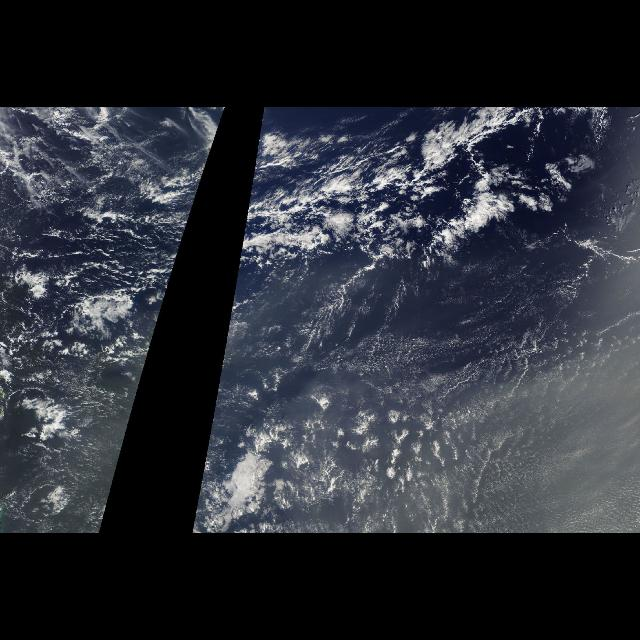Fish: (236, 108, 570, 276), (186, 108, 227, 228)
Sugar: (302, 269, 638, 533)
